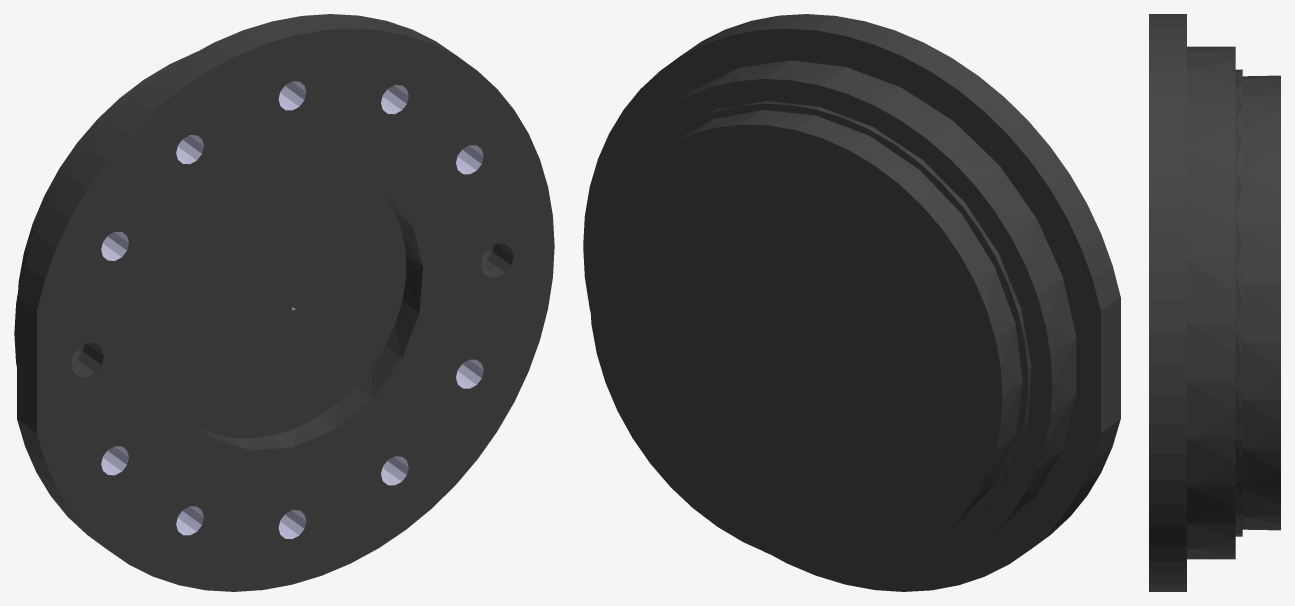
3 views of the same model, side by side, from view 1: azimuth 30°, elevation 25°; view 2: azimuth 150°, elevation 25°; view 3: azimuth 270°, elevation 25° (orthographic). The views are drawn at different scales.
Visible parts, largest first — view 1: node; view 2: node; view 3: node.
Part boxes in pixels (x1,y1,x2,y2): node: (14, 14, 554, 591); node: (583, 14, 1120, 591); node: (1149, 14, 1280, 591).
Size of the model in its own units: 158 by 160 by 36.5.
